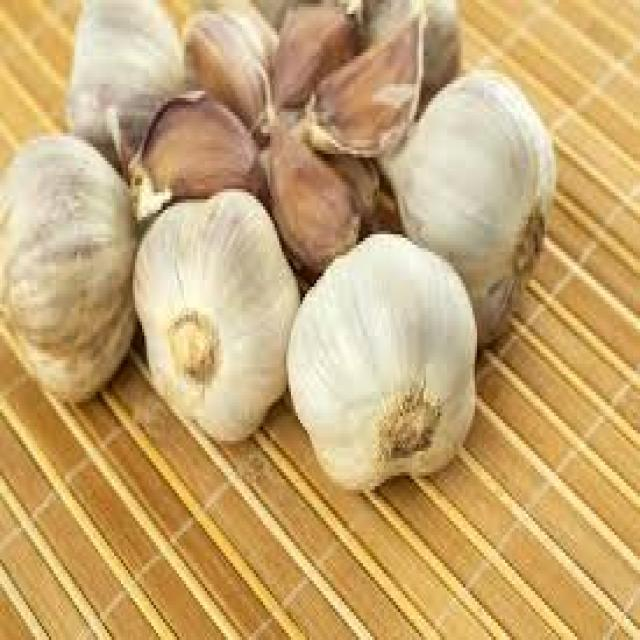Garlic: (283, 231, 491, 485), (121, 168, 305, 454), (386, 60, 556, 336), (0, 116, 148, 398), (305, 0, 433, 170), (55, 0, 189, 151), (128, 77, 270, 218), (253, 102, 367, 259), (189, 0, 328, 112)
